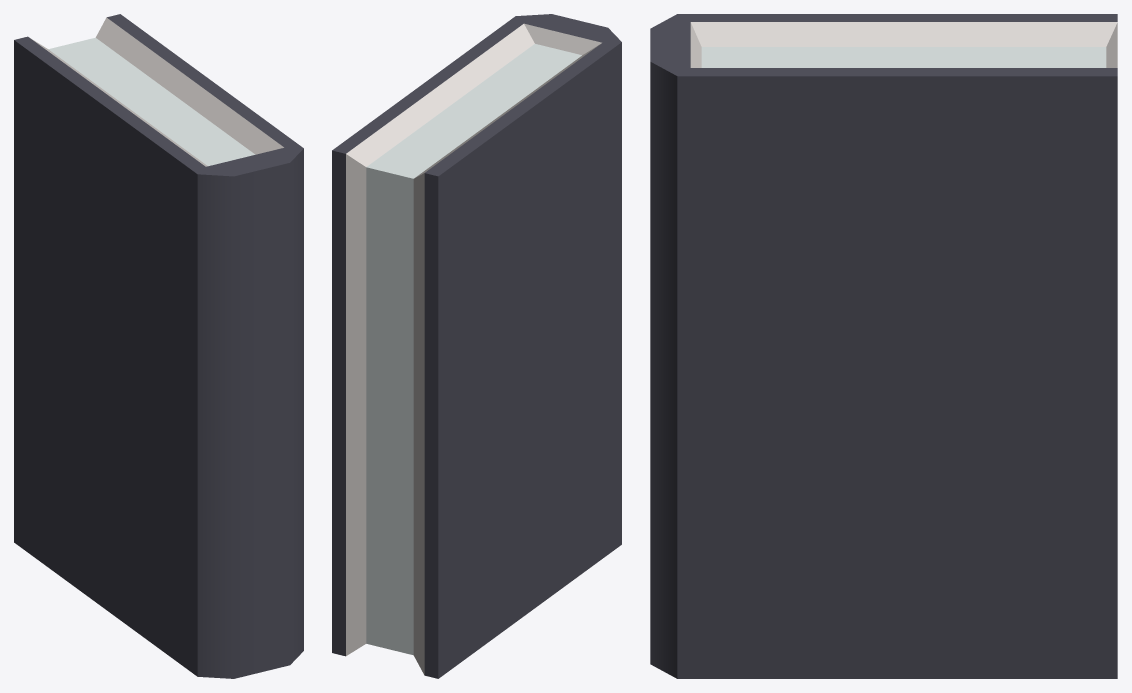
The model's file is book5.fbx.
3 renders of one model, left to right at view 1: azimuth 30°, elevation 25°; view 2: azimuth 150°, elevation 25°; view 3: azimuth 270°, elevation 25°, orthographic. The views are drawn at different scales.
Parts seen in each view (by area): view 1: book5; view 2: book5; view 3: book5.
Boxes of the visible parts, x1,y1,x2,y2 form: book5: (14,14,303,678); book5: (332,14,621,678); book5: (650,14,1117,678).
Bounding box in the file's own units: 0.3662 × 1.65 × 1.16.
1 material, 1 textured.
